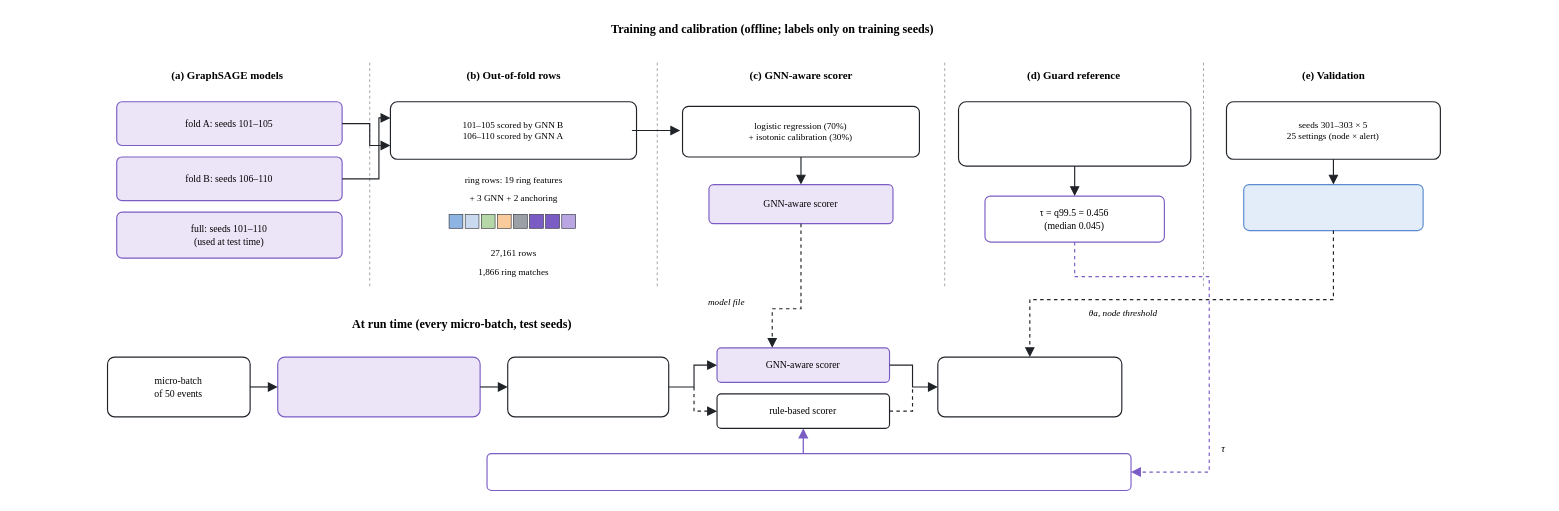
The diagram is 1559 pixels wide and 511 high, and some of its shapes have lost their labels. Each missing label, with the centre of its shape:
"detectors + GraphSAGE → tracked rings" goes at point 378,386.
"full GNN, unlabelled hold-out seeds 201–205 × 6 scenarios → flag rate per batch" goes at point 1074,133.
"node 0.95, θa 0.3 val. F1 0.881" goes at point 1333,207.
"ring features + GNN statistics" goes at point 588,386.
"risk ≥ θa → alert + explanation" goes at point 1029,386.
"shift guard: GNN flag rate (5-batch median) > τ → use the rule-based scorer" goes at point 808,471.
